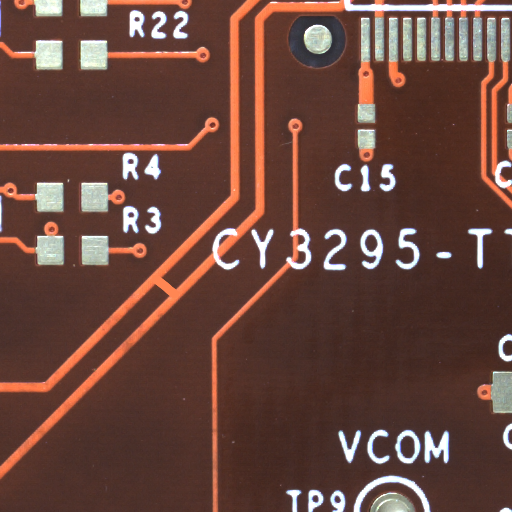Short: (166, 287, 191, 311)
